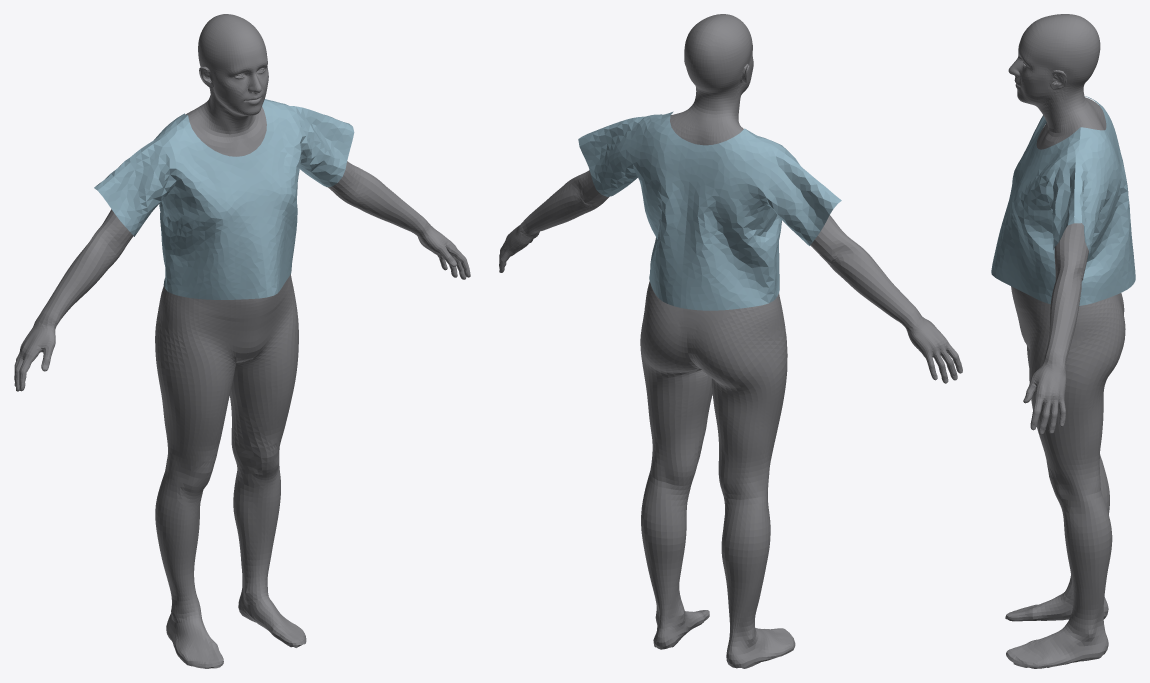
File: custom.glb
3 views of the same model, side by side, from view 1: azimuth 30°, elevation 25°; view 2: azimuth 150°, elevation 25°; view 3: azimuth 270°, elevation 25° (orthographic).
Visible parts, largest first — view 1: body, garment; view 2: body, garment; view 3: body, garment.
Part boxes in pixels (x1,y1,x2,y2): body: [14, 14, 470, 668]; garment: [94, 99, 354, 299]; body: [499, 14, 962, 668]; garment: [578, 111, 841, 310]; body: [1005, 14, 1125, 668]; garment: [991, 96, 1135, 305].
Bounding box in the file's own units: 1.31 × 1.72 × 0.3608.
